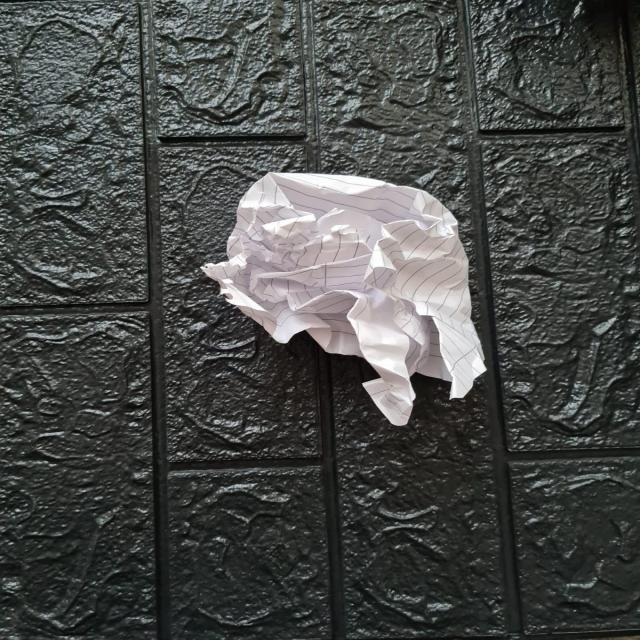cardboard paper: (201, 172, 484, 423)
